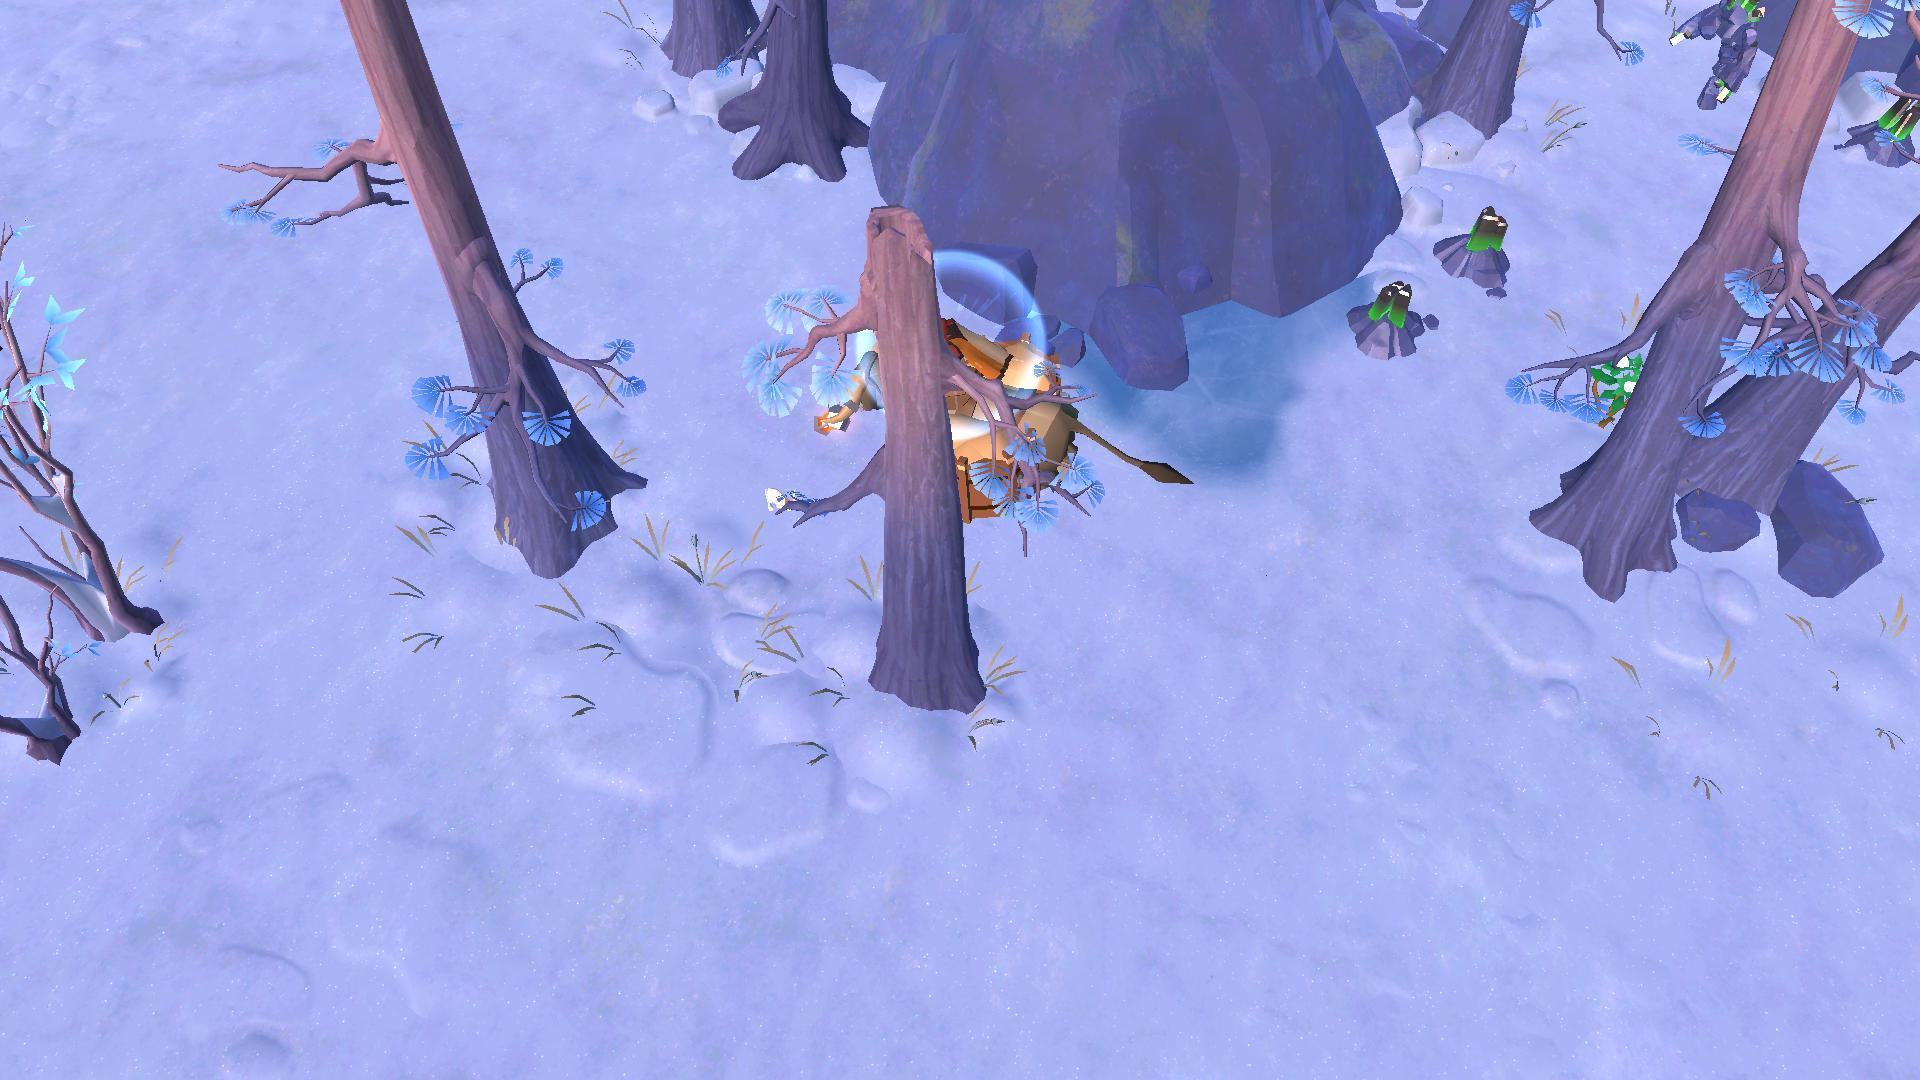fiber_t3: (1586, 345, 1655, 429)
ore_t3: (1869, 90, 1920, 152), (1462, 199, 1506, 264), (1367, 277, 1418, 327)
